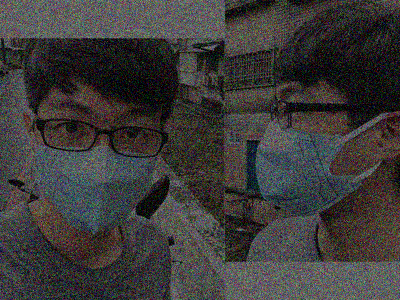with_mask: (32, 95, 161, 235), (251, 83, 361, 216)
